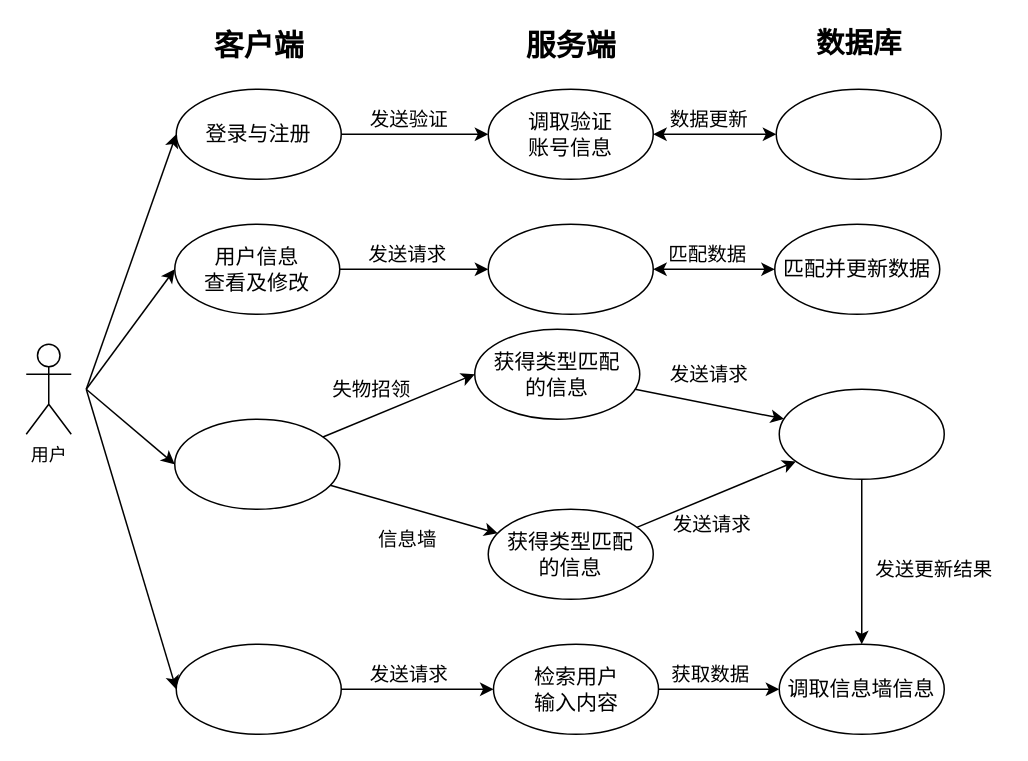
The diagram is 1028 pixels wide and 761 high, and some of its shapes have lost their labels. The shapes that lost their labels are listed below. From the top down, each one's box as (x1, y1, x2, y2) in pixels, then its label:
(775, 88, 941, 179): 进行账号信息 更新
(487, 223, 653, 314): 检索匹配 的用户
(778, 388, 944, 479): 核查信息类型 并更新信息
(173, 418, 340, 509): 信息创建
(175, 643, 341, 734): 信息墙信息检索
